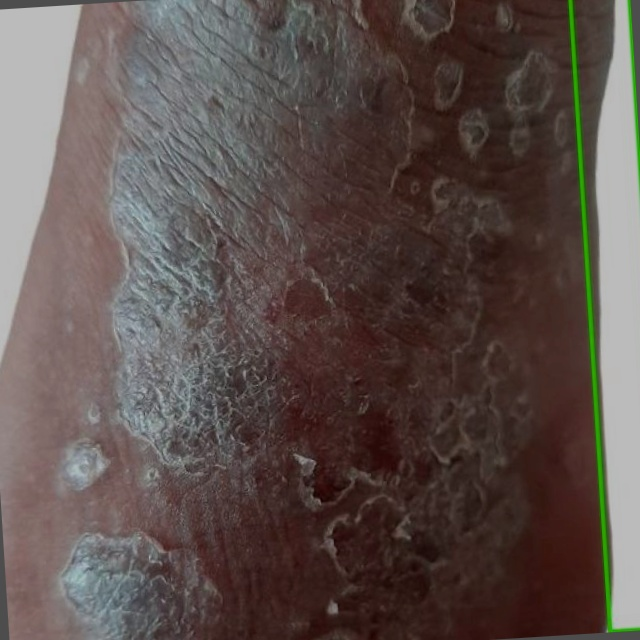Contact Dermatitis: (570, 0, 639, 631)
